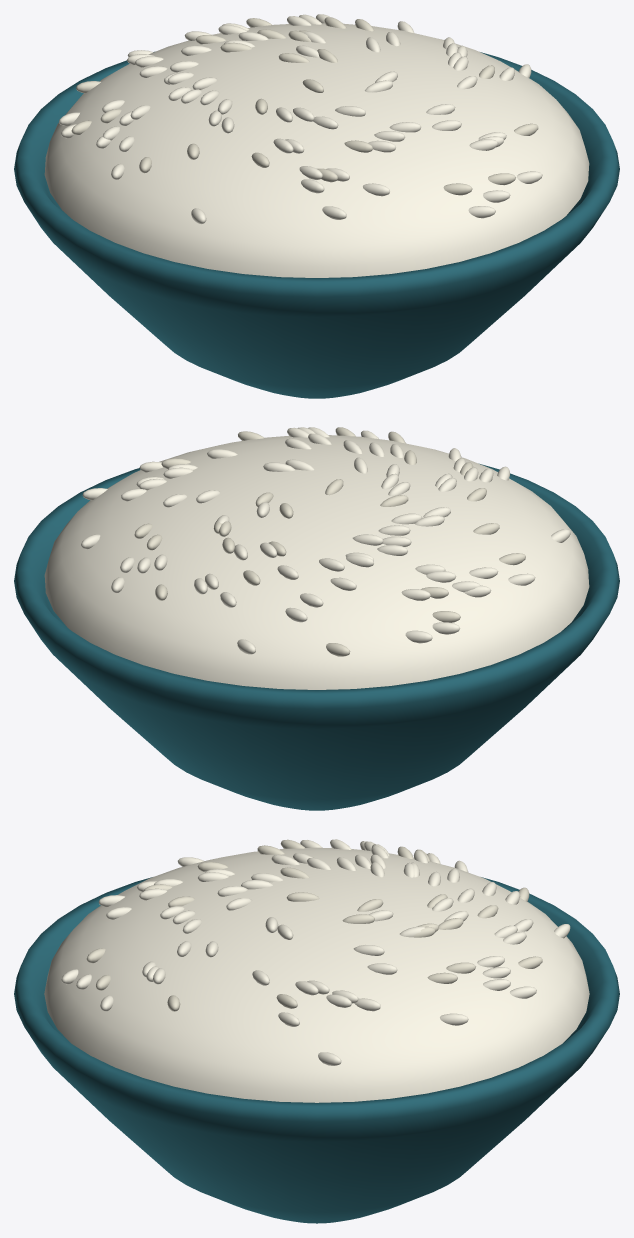
Rendered from SM_BFF_CookedRice.fbx.
3 renders of one model, top to bottom at view 1: azimuth 30°, elevation 25°; view 2: azimuth 150°, elevation 25°; view 3: azimuth 270°, elevation 25°, orthographic.
Visible parts, largest first — view 1: SM_BFF_CookedRice; view 2: SM_BFF_CookedRice; view 3: SM_BFF_CookedRice.
Part boxes in pixels (left/top/right/bottom): SM_BFF_CookedRice: left=14, top=14, right=619, bottom=398; SM_BFF_CookedRice: left=14, top=427, right=619, bottom=810; SM_BFF_CookedRice: left=14, top=839, right=619, bottom=1223.
Bounding box in the file's own units: 14 × 14 × 7.65.
